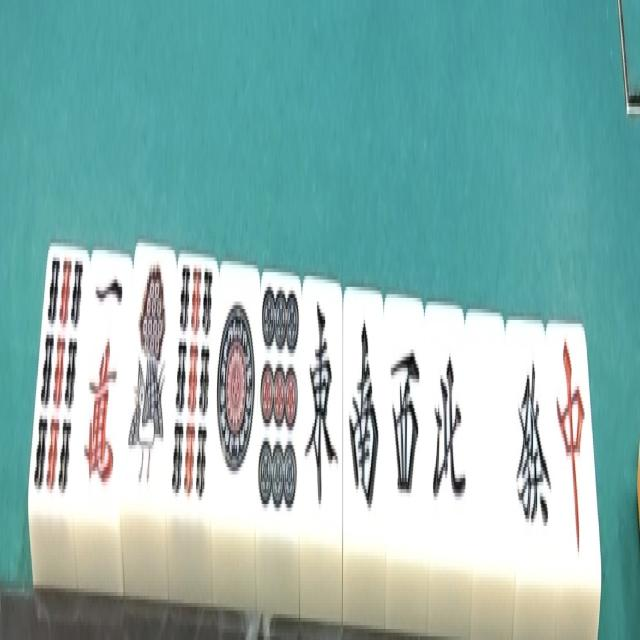bamboos_1: (122, 235, 178, 526)
bamboos_9: (27, 235, 90, 522), (168, 250, 220, 530)
characters_1: (76, 235, 134, 526)
circles_1: (212, 250, 260, 526)
circles_9: (256, 261, 302, 530)
east: (299, 261, 343, 559)
green: (506, 309, 559, 585)
north: (424, 294, 472, 585)
red: (547, 312, 602, 578)
south: (344, 283, 386, 574)
west: (384, 287, 428, 574)
white: (466, 309, 514, 585)
